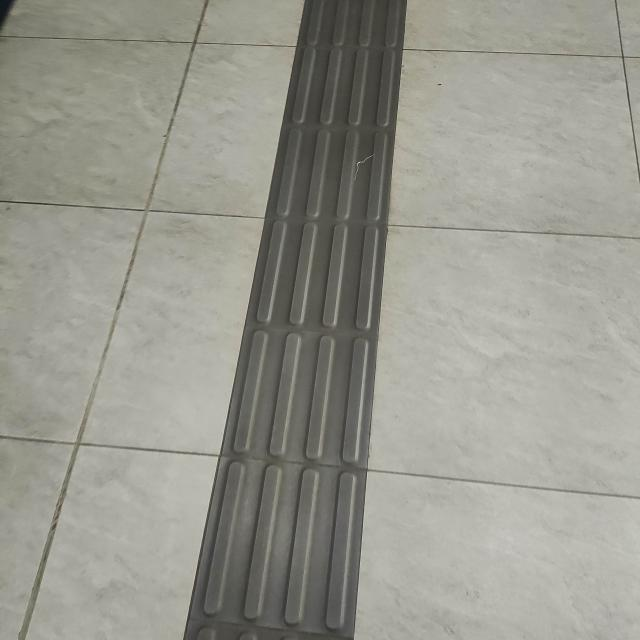lurus: (219, 0, 378, 640)
